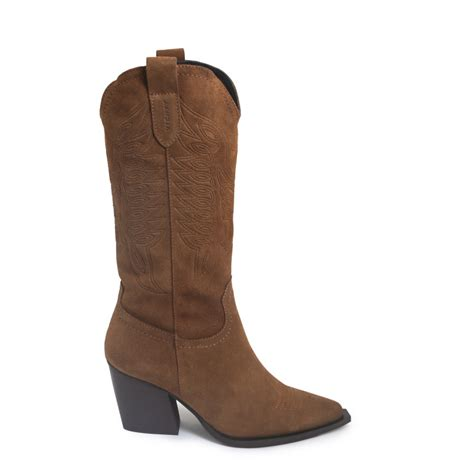cuero: (100, 46, 349, 440)
